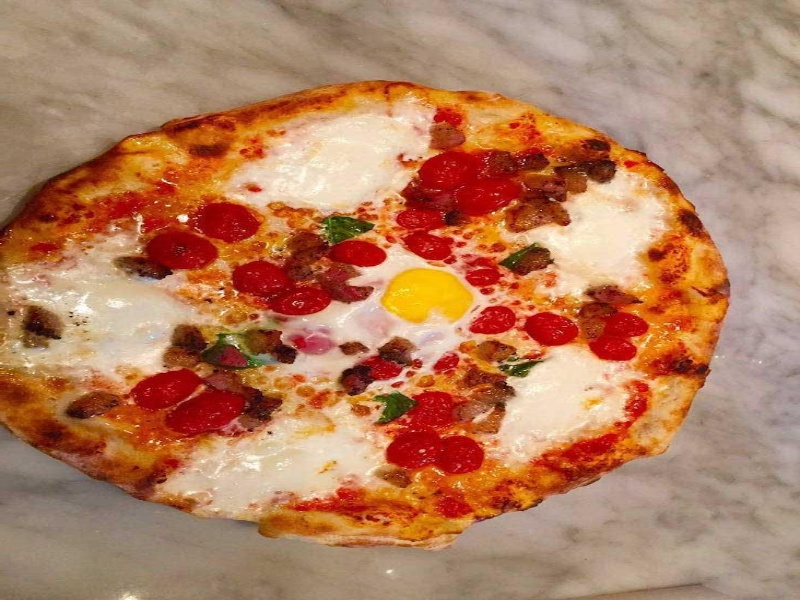oeuf: (373, 251, 490, 346)
